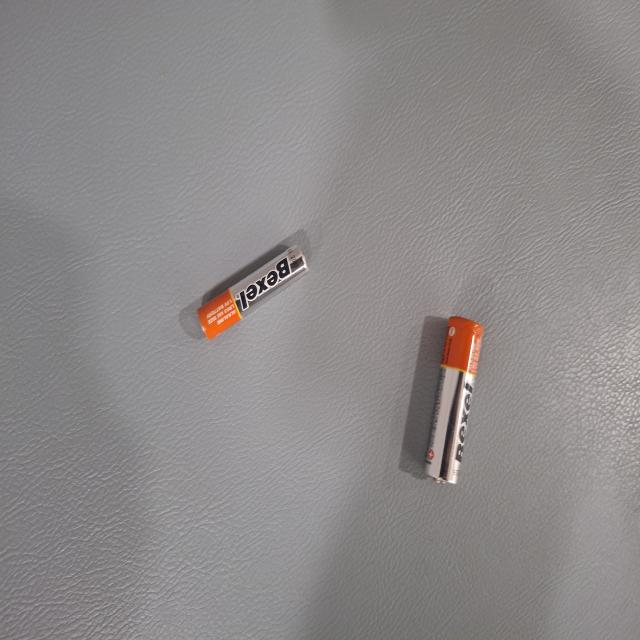AA: (156, 156, 215, 323)
AAA: (332, 300, 445, 396)
